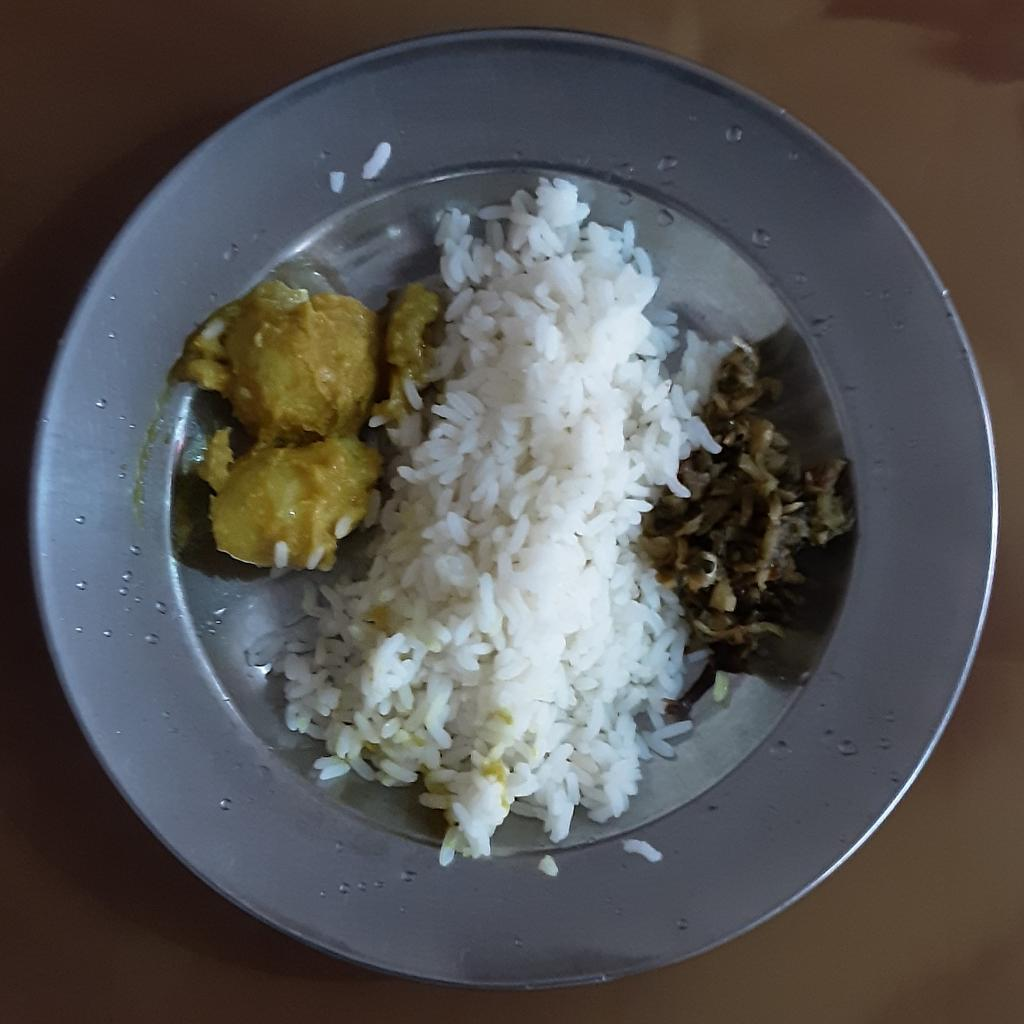kochu: (173, 270, 441, 570)
korola-vaji: (642, 318, 861, 682)
rice: (248, 175, 728, 868)
